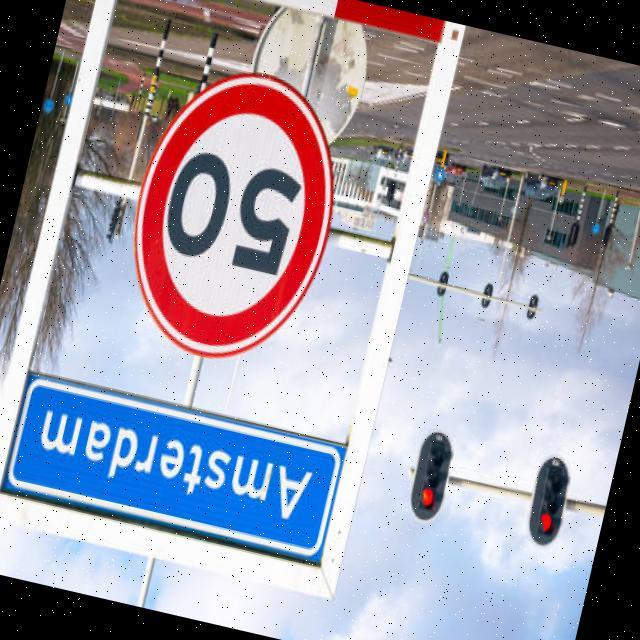speed_limit_50: (101, 56, 362, 386)
